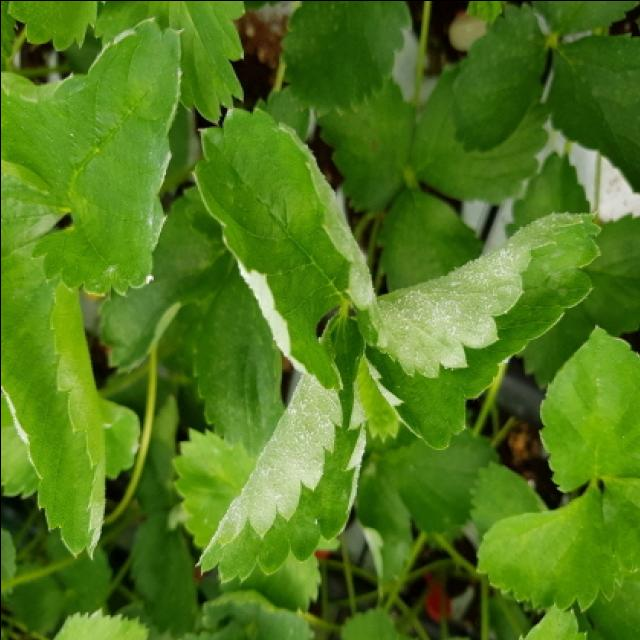Powdery Mildew Leaf: (351, 209, 603, 449), (190, 104, 375, 391), (0, 17, 182, 298), (193, 306, 368, 584), (0, 197, 106, 561)
